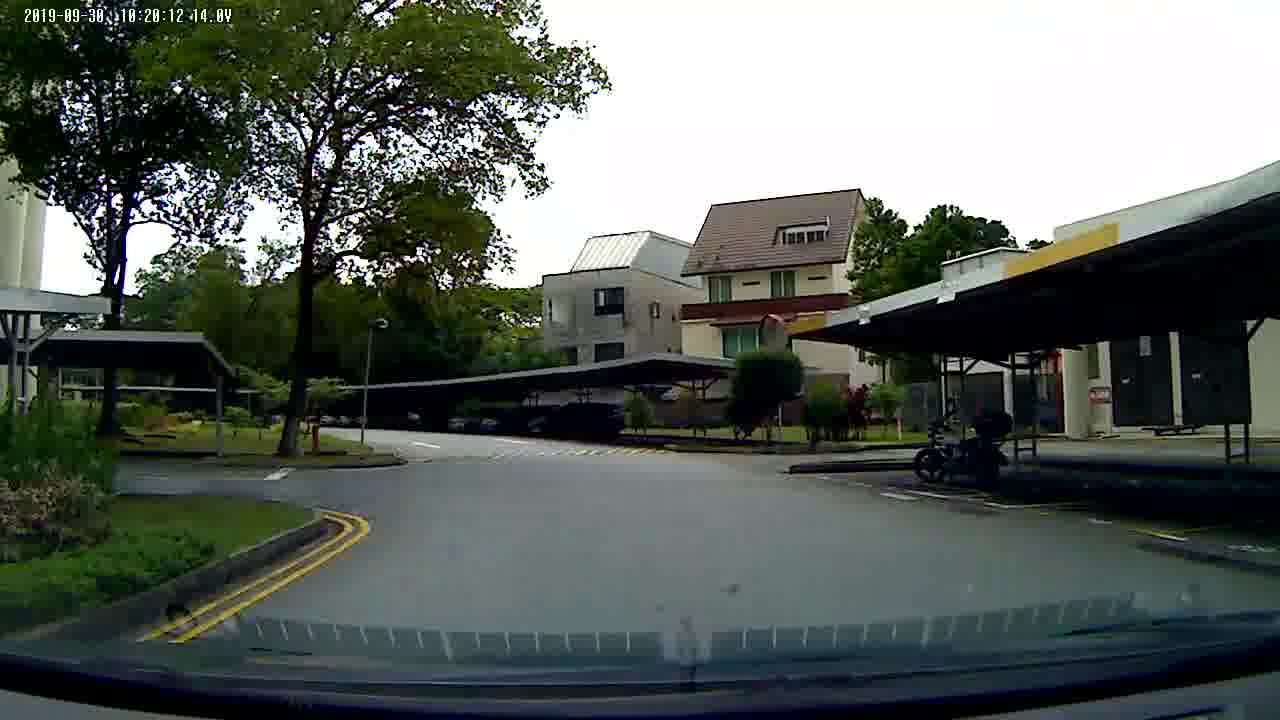car: (529, 401, 625, 436)
